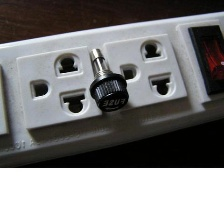three_eye_plug: (0, 7, 224, 169)
